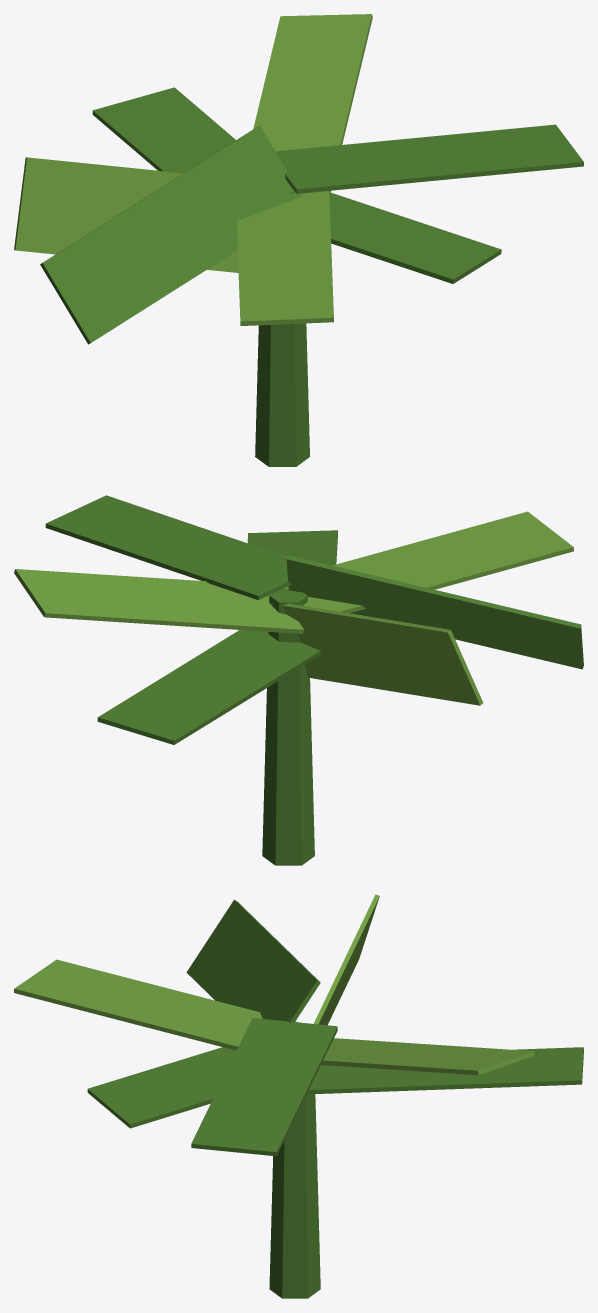
Rendered from bananplanta_1.glb.
3 renders of one model, top to bottom at view 1: azimuth 30°, elevation 25°; view 2: azimuth 150°, elevation 25°; view 3: azimuth 270°, elevation 25°, orthographic. The views are drawn at different scales.
Visible parts, largest first — view 1: bananplanta_1; view 2: bananplanta_1; view 3: bananplanta_1.
Boxes of the visible parts, x1,y1,x2,y2 form: bananplanta_1: (14,14,583,466); bananplanta_1: (14,495,583,865); bananplanta_1: (14,894,583,1298).
Bounding box in the file's own units: 4.96 × 2.88 × 4.89.
